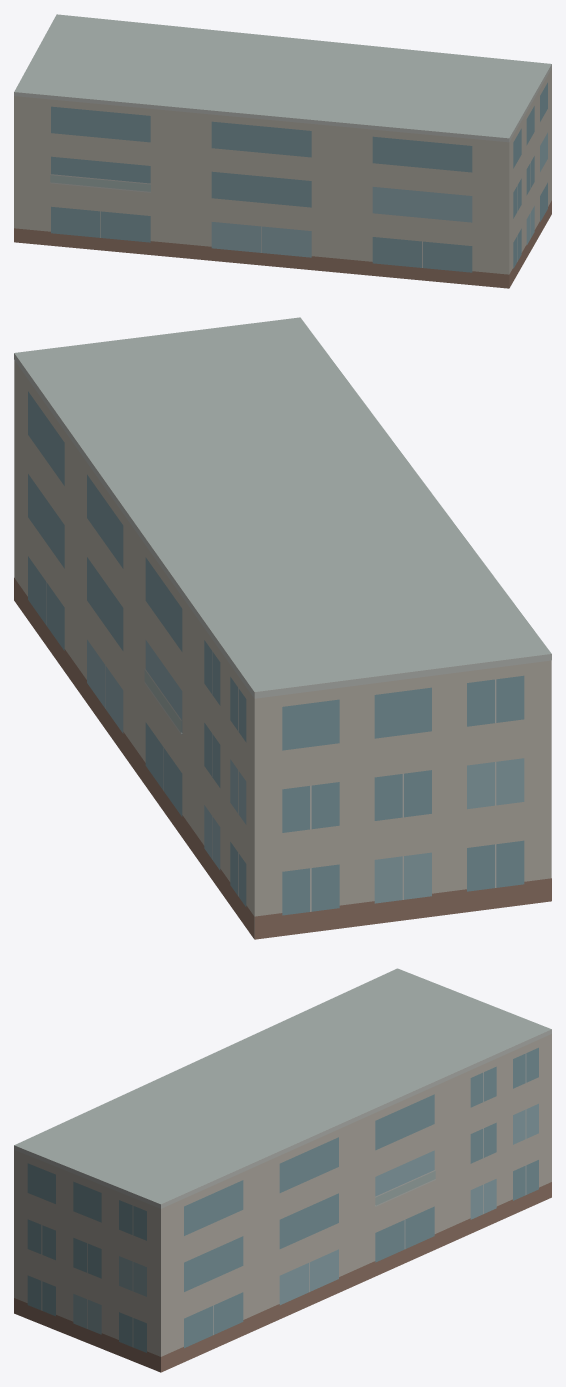
The model's file is survey-upis-32732612.glb.
3 views of the same model, one above another, from view 1: azimuth 30°, elevation 25°; view 2: azimuth 150°, elevation 25°; view 3: azimuth 270°, elevation 25° (orthographic). The views are drawn at different scales.
Parts seen in each view (by area): view 1: survey-upis-32732612.tmp; view 2: survey-upis-32732612.tmp; view 3: survey-upis-32732612.tmp.
Part boxes in pixels (x1=…): survey-upis-32732612.tmp: x1=14, y1=14, x2=551, y2=288; survey-upis-32732612.tmp: x1=14, y1=317, x2=551, y2=939; survey-upis-32732612.tmp: x1=14, y1=968, x2=551, y2=1372.
Size of the model in its own units: 27.55 by 9.15 by 26.53.
